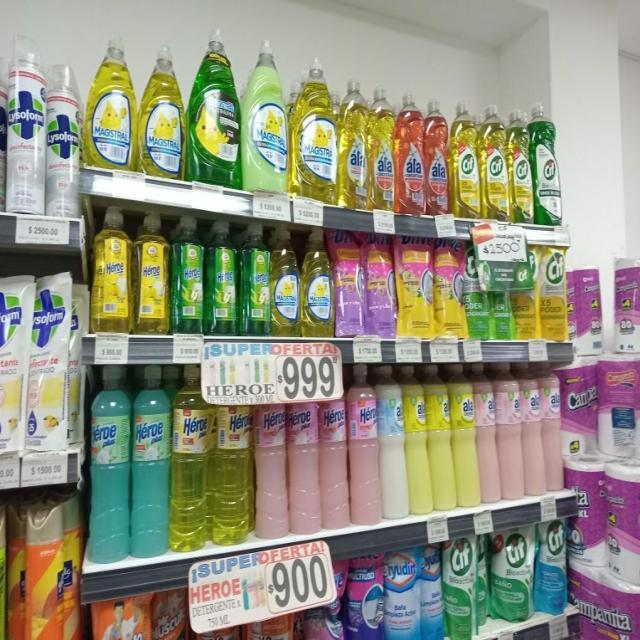ala_conc_amarillo: (339, 76, 368, 210), (369, 82, 395, 212)
ala_conc_rojo: (396, 90, 425, 215), (425, 97, 450, 216)
ala_crem_amarillo: (428, 363, 452, 512), (452, 362, 476, 510), (405, 364, 428, 516)
ala_crem_blanco: (380, 363, 405, 520)
ala_crem_rosado: (498, 361, 522, 502), (476, 362, 498, 506), (522, 360, 542, 498), (542, 362, 562, 494)
cif_conc_bot_amarilla: (451, 100, 480, 219), (480, 103, 508, 222), (509, 106, 532, 224)
cif_conc_botella_verde: (533, 100, 563, 226)
cif_conc_sachet_amarillo: (539, 242, 566, 341), (513, 244, 538, 341)
cif_conc_sachet_verde: (0, 495, 6, 640)
drive: (397, 237, 432, 339), (365, 234, 395, 338)
heroe: (131, 363, 170, 560), (171, 365, 209, 553), (210, 380, 252, 546), (91, 205, 132, 335), (254, 382, 287, 540), (348, 362, 378, 527), (288, 382, 319, 536), (320, 368, 348, 531), (134, 210, 170, 336)
magistral_con_amarillo: (86, 32, 136, 171), (292, 54, 337, 202), (139, 42, 186, 178), (301, 227, 333, 339), (271, 225, 300, 338)
magistral_con_crema: (243, 37, 289, 194)
